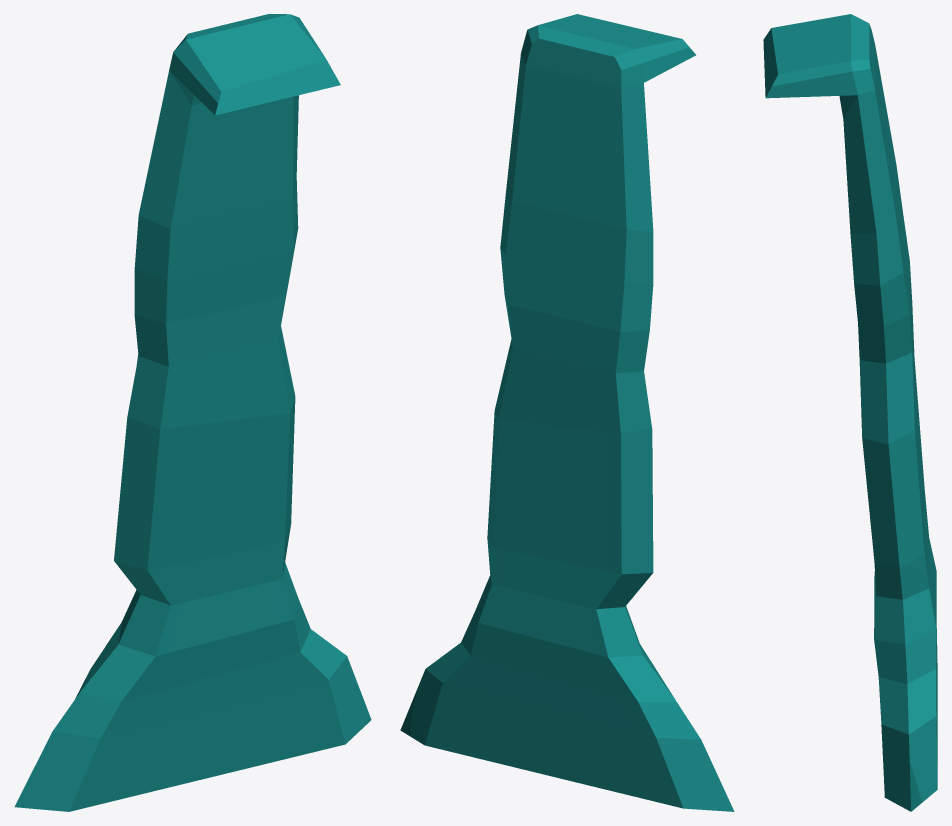
The model's file is CascadaAnimada_000022.obj.
3 renders of one model, left to right at view 1: azimuth 30°, elevation 25°; view 2: azimuth 150°, elevation 25°; view 3: azimuth 270°, elevation 25°, orthographic. The views are drawn at different scales.
Visible parts, largest first — view 1: Cube.053, Cube.054; view 2: Cube.053, Cube.054; view 3: Cube.053, Cube.054.
Part boxes in pixels (<box>): Cube.053: <box>14,14,371,811</box>; Cube.054: <box>169,14,340,115</box>; Cube.053: <box>400,25,734,811</box>; Cube.054: <box>538,14,695,82</box>; Cube.053: <box>839,14,937,811</box>; Cube.054: <box>763,14,857,98</box>.
Bounding box in the file's own units: 136 × 277 × 62.23.
